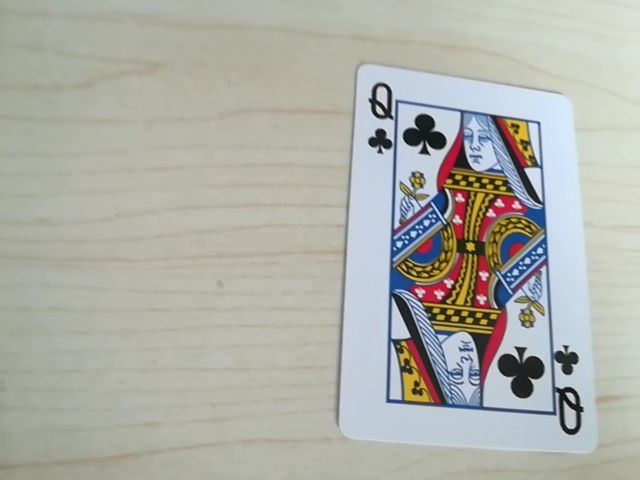mh q: (361, 73, 404, 152), (553, 356, 589, 442)
